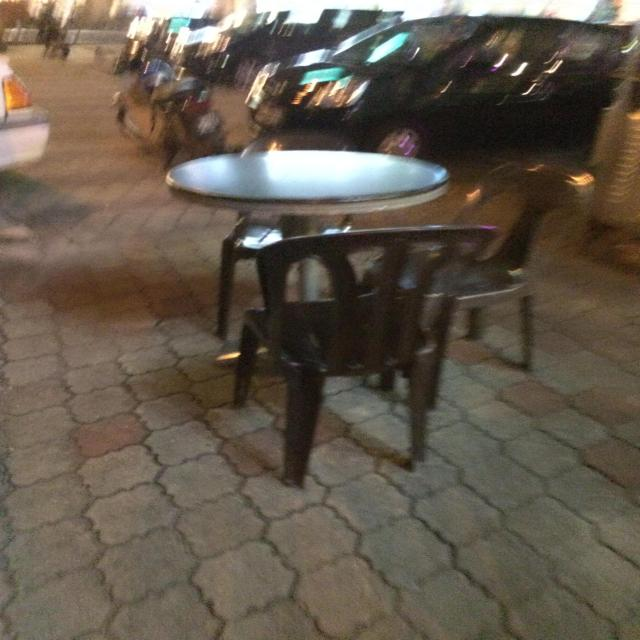Motorbike: (87, 40, 242, 171)
Table: (87, 138, 463, 309)
car: (259, 0, 640, 176)
chair: (156, 210, 490, 515), (401, 155, 604, 353)
